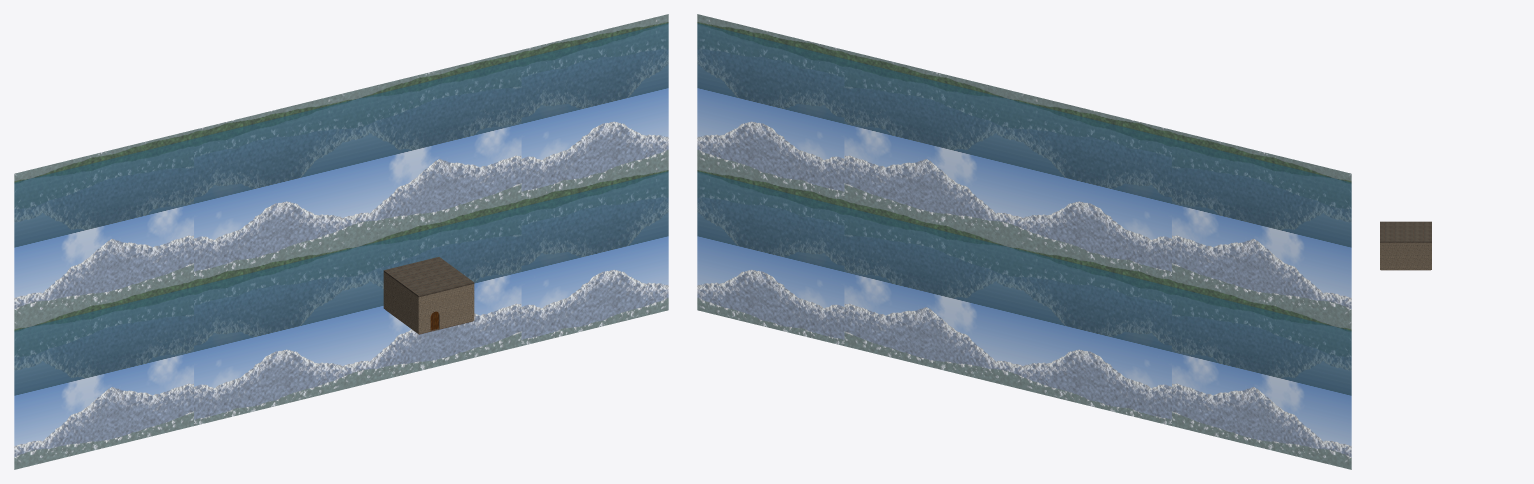
The model's file is master.glb.
3 views of the same model, side by side, from view 1: azimuth 30°, elevation 25°; view 2: azimuth 150°, elevation 25°; view 3: azimuth 270°, elevation 25° (orthographic). The views are drawn at different scales.
Parts seen in each view (by area): view 1: lake view, ceiling, front wall, side wall; view 2: lake view; view 3: side wall.001, ceiling.
Part boxes in pixels (box(x1,y1,x2,y2)): lake view: box(14, 14, 668, 469); ceiling: box(383, 257, 474, 297); front wall: box(417, 284, 474, 333); side wall: box(385, 273, 421, 333); lake view: box(697, 14, 1351, 469); side wall.001: box(1380, 242, 1428, 269); ceiling: box(1380, 221, 1431, 242).
Bounding box in the file's own units: 80 × 34.6 × 20.
Materials: 39 (20 with a texture image).
